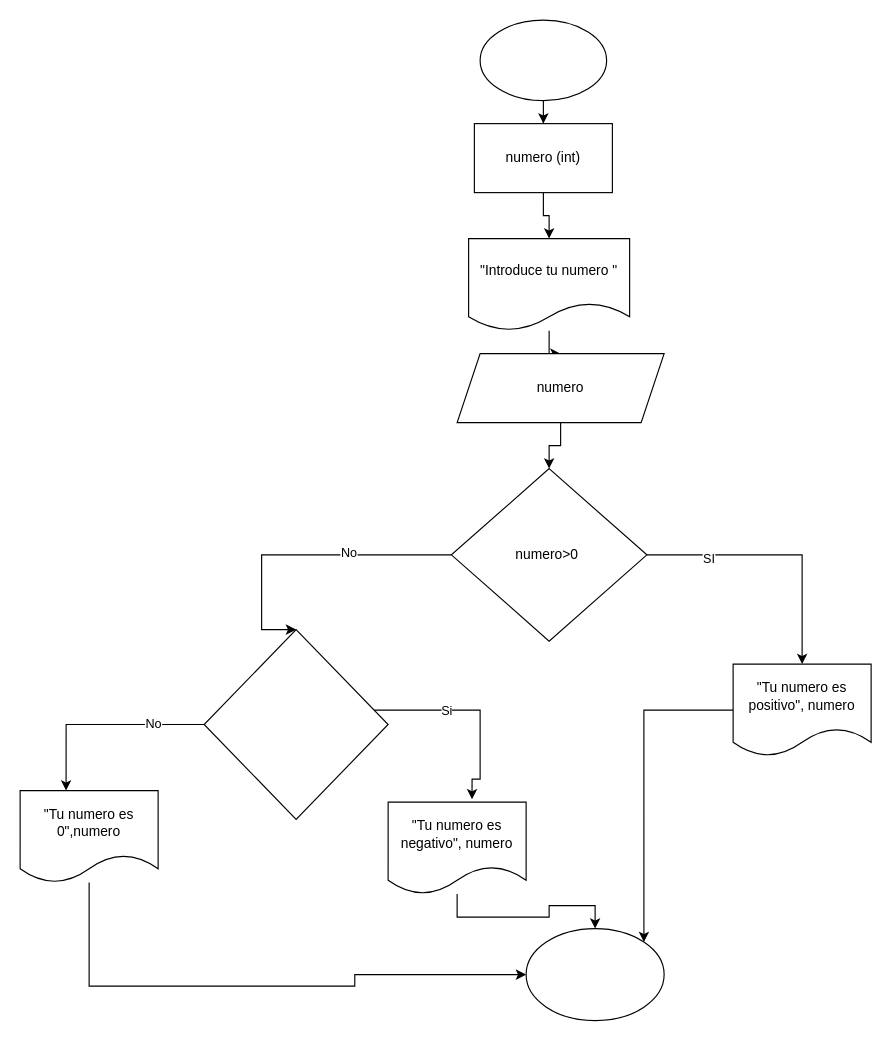
This 891x1041 diagram has some shape labels left out. Each missing label, with the box of its shape:
Fin: (525, 927, 664, 1021)
Inicio: (479, 19, 607, 101)
numero<0: (203, 628, 388, 819)
